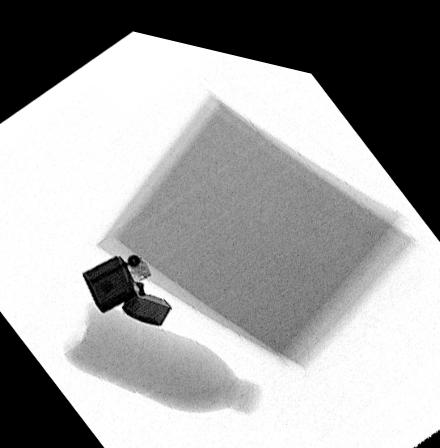Lighter: (81, 246, 171, 317)
